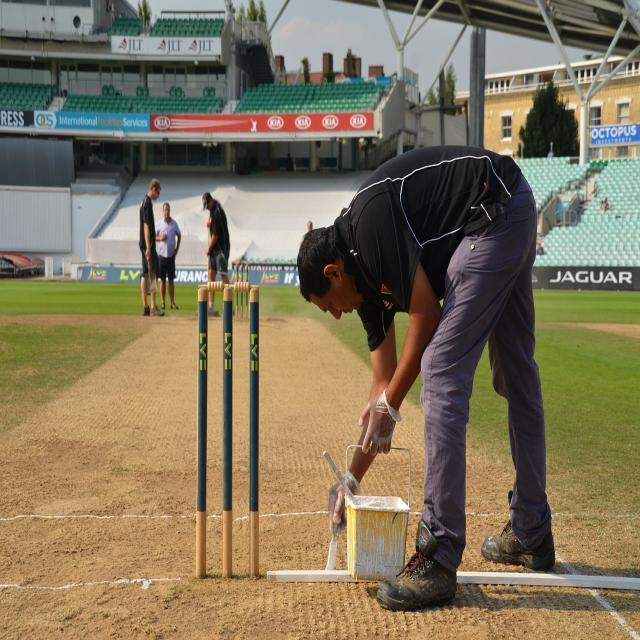stumps: (196, 279, 262, 579), (231, 263, 249, 320)
